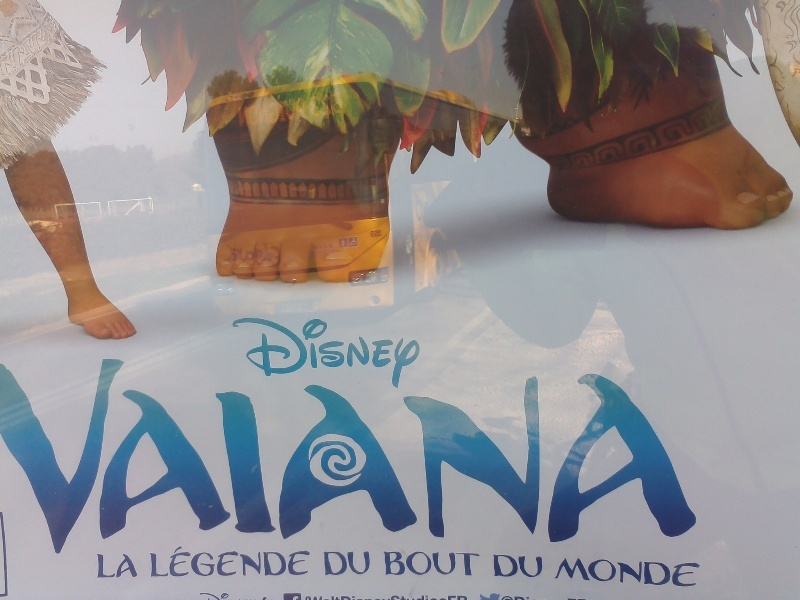text: (1, 355, 16, 555), (17, 355, 32, 555), (33, 355, 48, 555), (49, 355, 64, 555), (65, 355, 80, 555), (81, 355, 96, 555), (97, 355, 112, 555), (113, 355, 128, 555), (129, 355, 144, 555), (145, 355, 160, 555), (161, 355, 176, 555), (177, 355, 192, 555), (193, 355, 208, 555), (209, 355, 224, 555), (225, 355, 240, 555), (241, 355, 256, 555), (257, 355, 272, 555), (273, 355, 288, 555), (289, 355, 304, 555), (305, 355, 320, 555), (321, 355, 336, 555), (337, 355, 352, 555), (353, 355, 368, 555), (369, 355, 384, 555), (385, 355, 400, 555), (401, 355, 416, 555), (417, 355, 432, 555), (433, 355, 448, 555), (449, 355, 464, 555), (465, 355, 480, 555), (481, 355, 496, 555), (497, 355, 512, 555), (513, 355, 528, 555), (529, 355, 544, 555), (545, 355, 560, 555), (561, 355, 576, 555), (577, 355, 592, 555), (593, 355, 608, 555), (609, 355, 624, 555), (625, 355, 640, 555), (641, 355, 656, 555), (657, 355, 672, 555), (673, 355, 688, 555), (689, 355, 704, 555), (705, 355, 713, 555), (241, 307, 256, 386), (257, 307, 272, 386), (273, 307, 288, 386), (289, 307, 304, 386), (305, 307, 320, 386), (321, 307, 336, 386), (337, 307, 352, 386), (353, 307, 368, 386), (369, 307, 384, 386), (385, 307, 400, 386), (401, 307, 416, 386), (228, 307, 240, 386), (241, 89, 256, 131), (257, 89, 272, 131), (273, 89, 288, 131), (289, 89, 304, 131), (305, 89, 320, 131), (321, 89, 336, 131), (417, 307, 424, 386), (161, 546, 176, 579), (177, 546, 192, 579), (193, 546, 208, 579), (209, 546, 224, 579), (225, 546, 240, 579), (241, 546, 256, 579), (257, 546, 272, 579), (273, 546, 288, 579), (289, 546, 304, 579), (577, 557, 592, 588), (593, 557, 608, 588), (609, 557, 624, 588), (625, 557, 640, 588), (641, 557, 656, 588), (657, 557, 672, 588), (673, 557, 688, 588), (562, 557, 576, 588), (689, 557, 703, 588), (337, 89, 347, 131), (465, 551, 481, 577), (97, 552, 112, 579), (113, 552, 128, 579), (385, 551, 400, 577), (401, 551, 416, 577), (417, 551, 432, 577), (433, 551, 448, 577), (449, 551, 464, 577), (337, 550, 352, 576), (353, 550, 368, 576), (497, 553, 512, 579), (513, 553, 528, 579), (529, 553, 544, 579), (149, 546, 160, 579), (324, 550, 336, 576), (129, 552, 140, 579), (305, 546, 313, 579), (235, 89, 240, 131), (369, 229, 384, 238), (209, 592, 224, 600), (225, 592, 240, 600), (241, 592, 256, 600), (257, 592, 272, 600), (273, 592, 288, 600), (289, 592, 304, 600), (305, 592, 320, 600), (321, 592, 336, 600), (337, 592, 352, 600), (353, 592, 368, 600), (369, 592, 384, 600), (385, 592, 400, 600), (401, 592, 416, 600), (417, 592, 432, 600), (433, 592, 448, 600), (449, 592, 464, 600), (465, 592, 480, 600), (481, 592, 496, 600), (497, 592, 512, 600), (513, 592, 528, 600), (492, 553, 496, 579), (369, 550, 372, 576), (199, 592, 208, 600), (529, 592, 531, 600)
